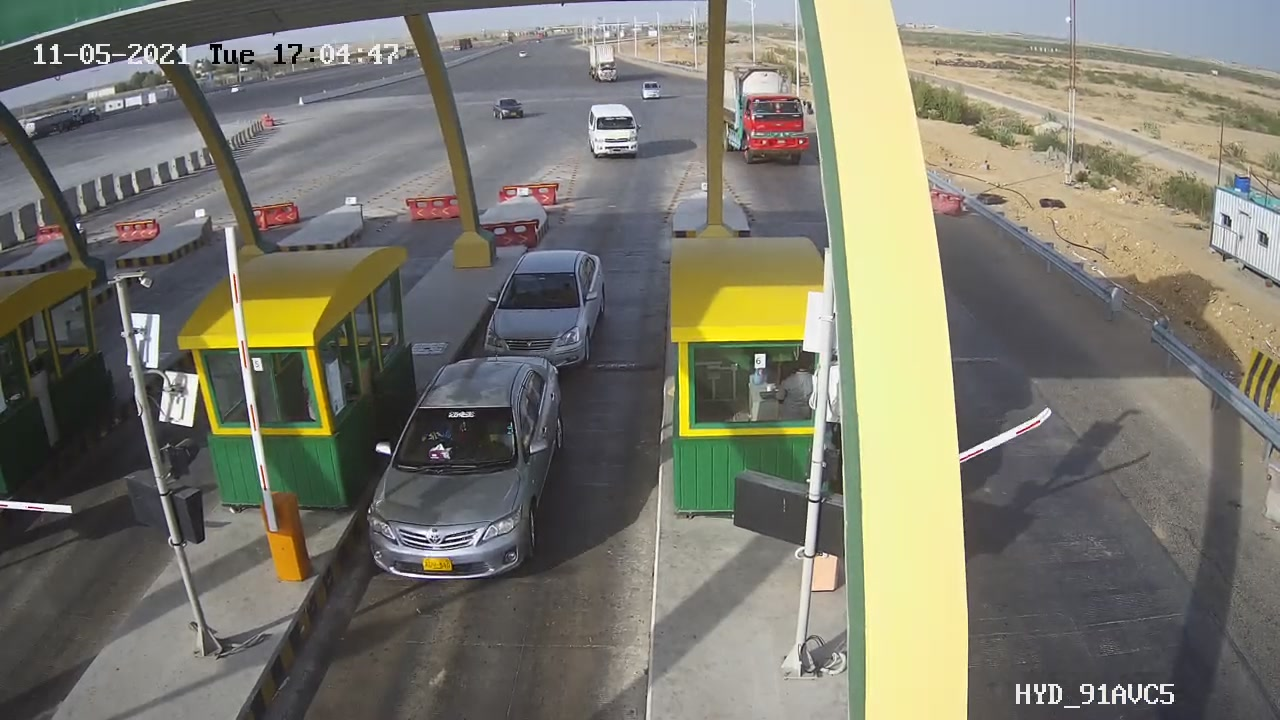F1: (351, 338, 591, 604), (464, 233, 620, 390)
